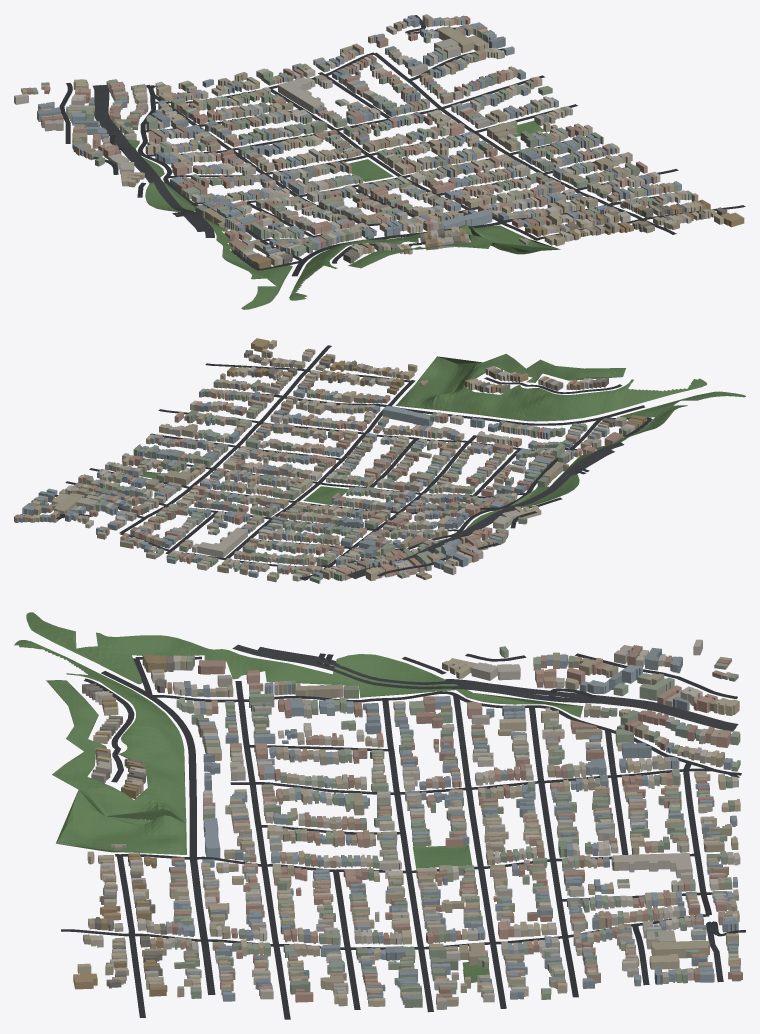
Rendered from tile_9_16.glb.
3 views of the same model, one above another, from view 1: azimuth 30°, elevation 25°; view 2: azimuth 150°, elevation 25°; view 3: azimuth 270°, elevation 25° (orthographic). The views are drawn at different scales.
Visible parts, largest first — view 1: bld_9_16, road_9_16, grn_9_16; view 2: bld_9_16, grn_9_16, road_9_16; view 3: bld_9_16, road_9_16, grn_9_16.
Part boxes in pixels (bbox=[...]): bld_9_16: bbox=[14, 14, 744, 270]; road_9_16: bbox=[59, 15, 745, 276]; grn_9_16: bbox=[127, 120, 560, 309]; bld_9_16: bbox=[14, 338, 646, 583]; grn_9_16: bbox=[139, 353, 745, 542]; road_9_16: bbox=[20, 345, 652, 580]; bld_9_16: bbox=[73, 639, 742, 1009]; road_9_16: bbox=[61, 644, 745, 1019]; grn_9_16: bbox=[14, 612, 583, 983].
Bounding box in the file's own units: 948 × 130 × 896.
